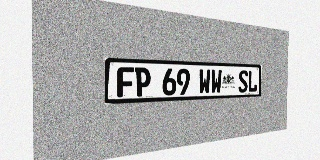6: (162, 68, 176, 96)
9: (177, 68, 190, 95)
F: (117, 67, 134, 97)
L: (248, 70, 257, 92)
P: (135, 67, 151, 97)
S: (238, 70, 248, 93)
W: (199, 69, 210, 94), (211, 69, 222, 94)
